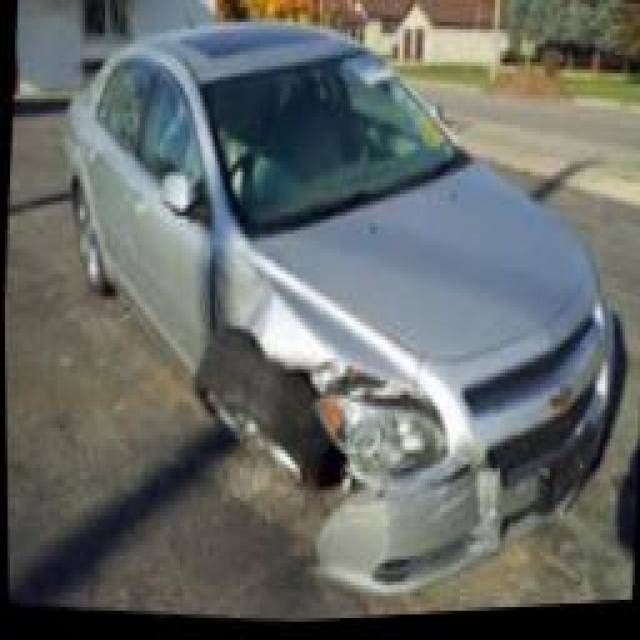Bumper: (305, 330, 616, 601)
Fender: (206, 237, 418, 394)
Light: (314, 388, 444, 480)
